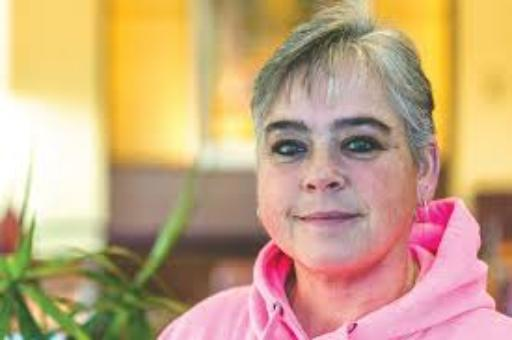left_eye: (340, 135, 389, 154)
left_lip_corner: (350, 211, 370, 225)
right_eye: (271, 139, 310, 158)
right_lip_corner: (293, 214, 314, 227)
